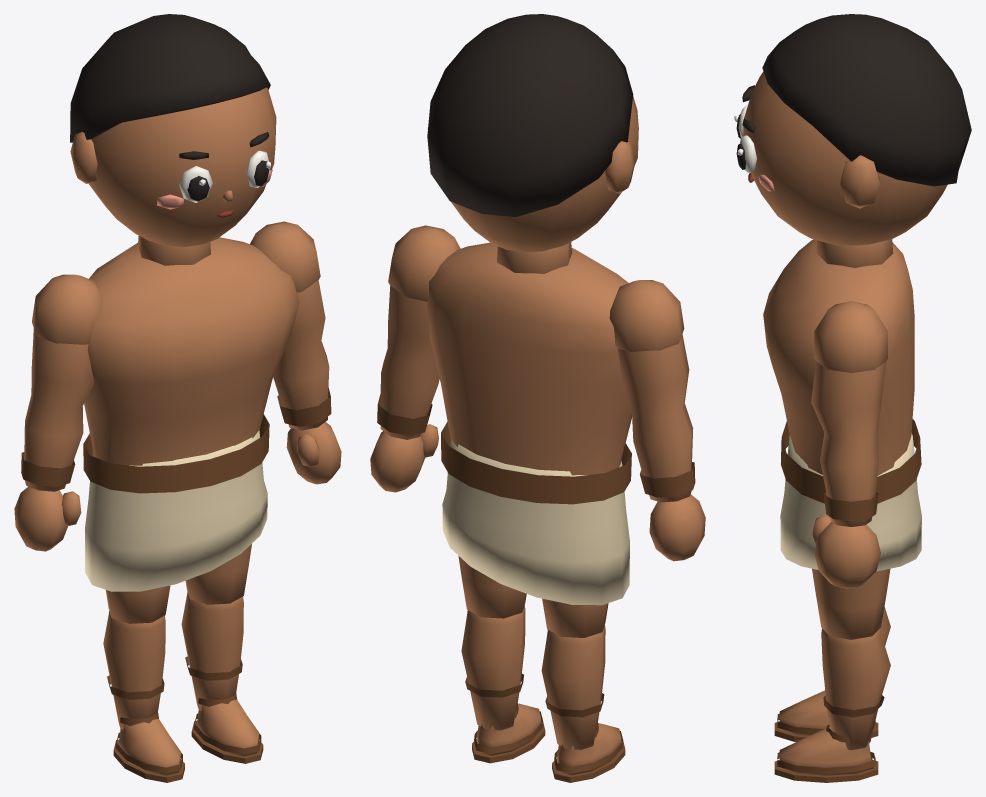
File: ringer.glb
3 renders of one model, left to right at view 1: azimuth 30°, elevation 25°; view 2: azimuth 150°, elevation 25°; view 3: azimuth 270°, elevation 25°, orthographic. The views are drawn at different scales.
Parts seen in each view (by area): view 1: rumpf, kopf, huefte, haare, armL, armR, knieR, knieL, beinR, beinL, augeL, augeR; view 2: rumpf, haare, huefte, armL, armR, knieL, knieR, kopf, beinR, beinL; view 3: haare, rumpf, kopf, armR, knieR, huefte, beinR, knieL, augeR.
Boxes of the visible parts, x1=… form: rumpf: x1=83, y1=237, x2=299, y2=493; kopf: x1=70, y1=87, x2=276, y2=265; huefte: x1=85, y1=430, x2=267, y2=591; haare: x1=70, y1=14, x2=270, y2=142; armL: x1=14, y1=274, x2=102, y2=551; armR: x1=250, y1=221, x2=341, y2=484; knieR: x1=181, y1=592, x2=263, y2=763; knieL: x1=103, y1=611, x2=184, y2=782; beinR: x1=185, y1=544, x2=251, y2=604; beinL: x1=105, y1=585, x2=170, y2=623; augeL: x1=179, y1=166, x2=212, y2=202; augeR: x1=246, y1=150, x2=270, y2=187; rumpf: x1=427, y1=242, x2=631, y2=504; haare: x1=427, y1=14, x2=633, y2=217; huefte: x1=442, y1=440, x2=629, y2=605; armL: x1=609, y1=280, x2=705, y2=561; armR: x1=370, y1=225, x2=460, y2=492; knieL: x1=541, y1=625, x2=625, y2=782; knieR: x1=461, y1=605, x2=545, y2=763; kopf: x1=427, y1=96, x2=638, y2=273; beinR: x1=458, y1=556, x2=526, y2=618; beinL: x1=542, y1=598, x2=608, y2=637; haare: x1=762, y1=14, x2=971, y2=186; rumpf: x1=763, y1=239, x2=921, y2=503; kopf: x1=743, y1=71, x2=947, y2=267; armR: x1=811, y1=301, x2=887, y2=588; knieR: x1=774, y1=628, x2=890, y2=782; huefte: x1=780, y1=433, x2=921, y2=571; beinR: x1=812, y1=568, x2=890, y2=639; knieL: x1=774, y1=607, x2=890, y2=741; augeR: x1=736, y1=135, x2=756, y2=173.
Bounding box in the file's own units: 1.05 × 2.29 × 0.6753.
